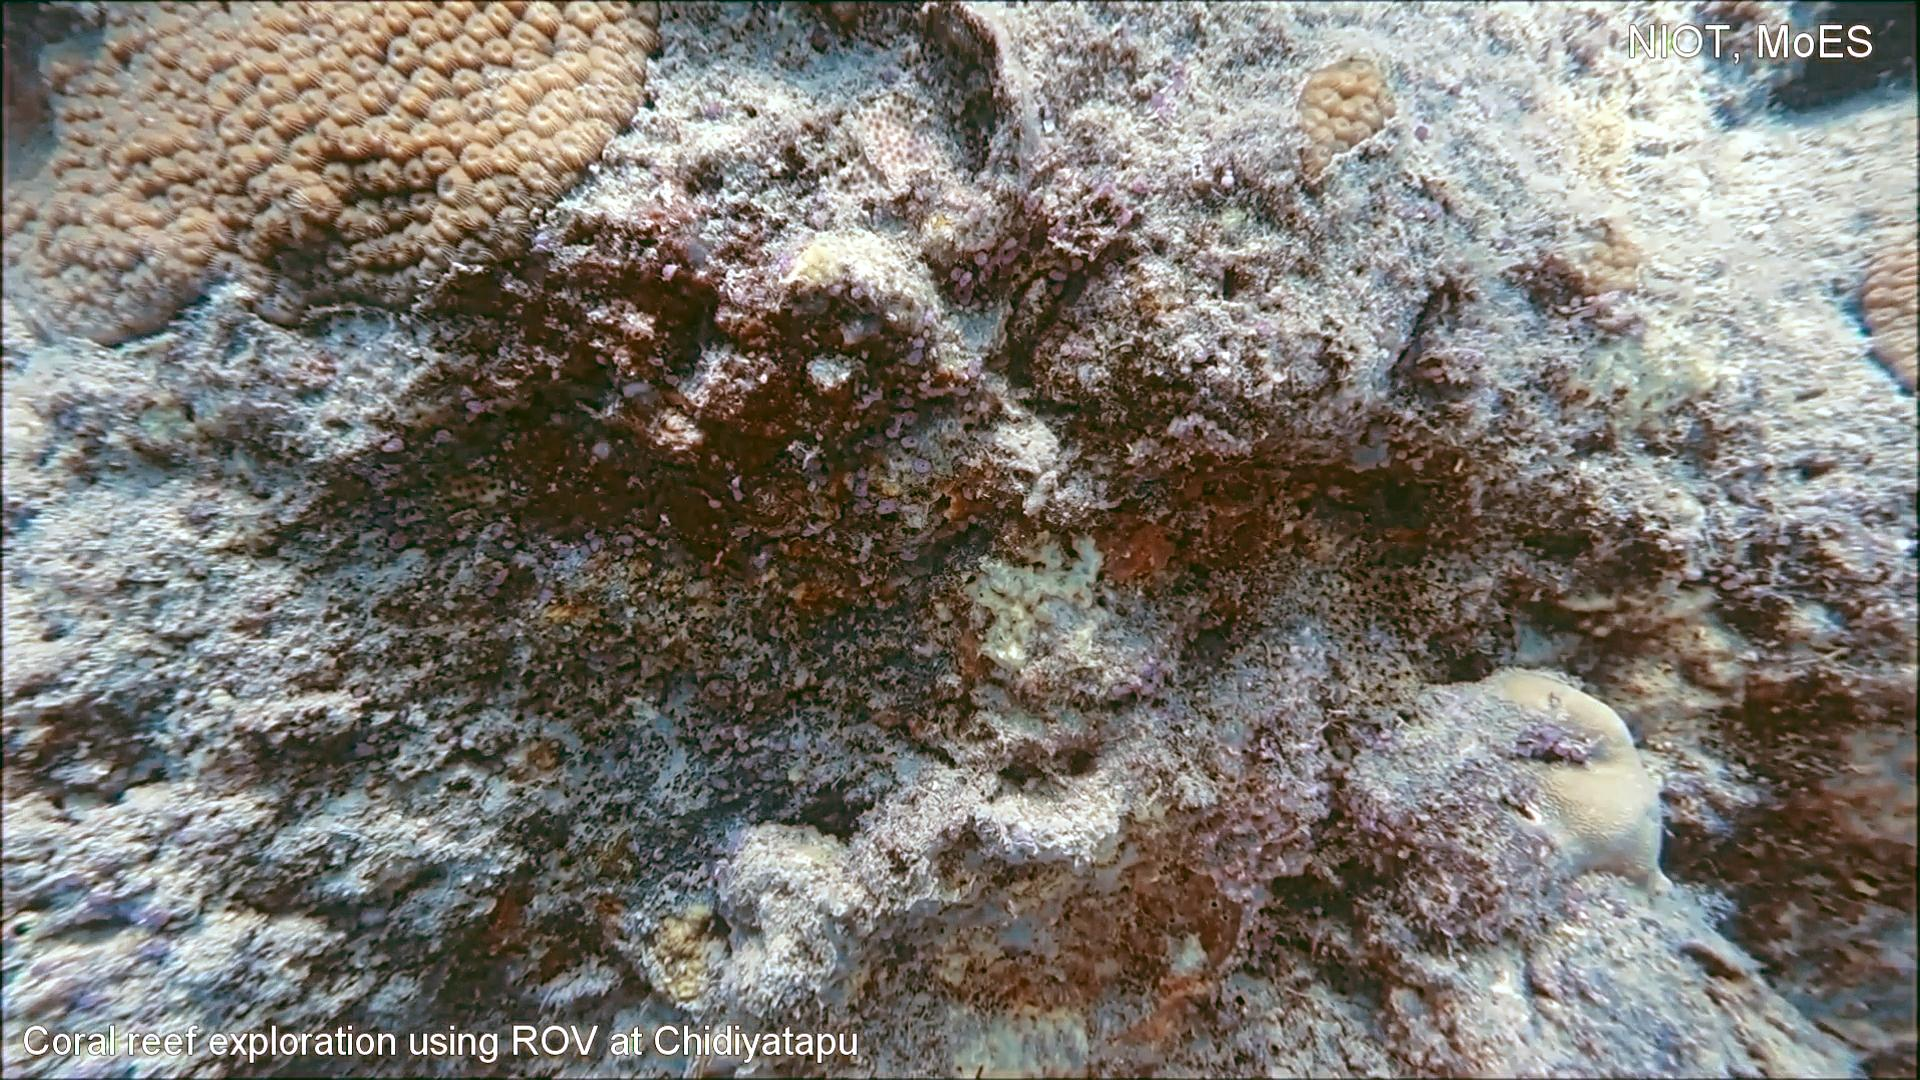Montastraea: (0, 0, 676, 357), (1288, 46, 1407, 198), (1850, 219, 1919, 405)
